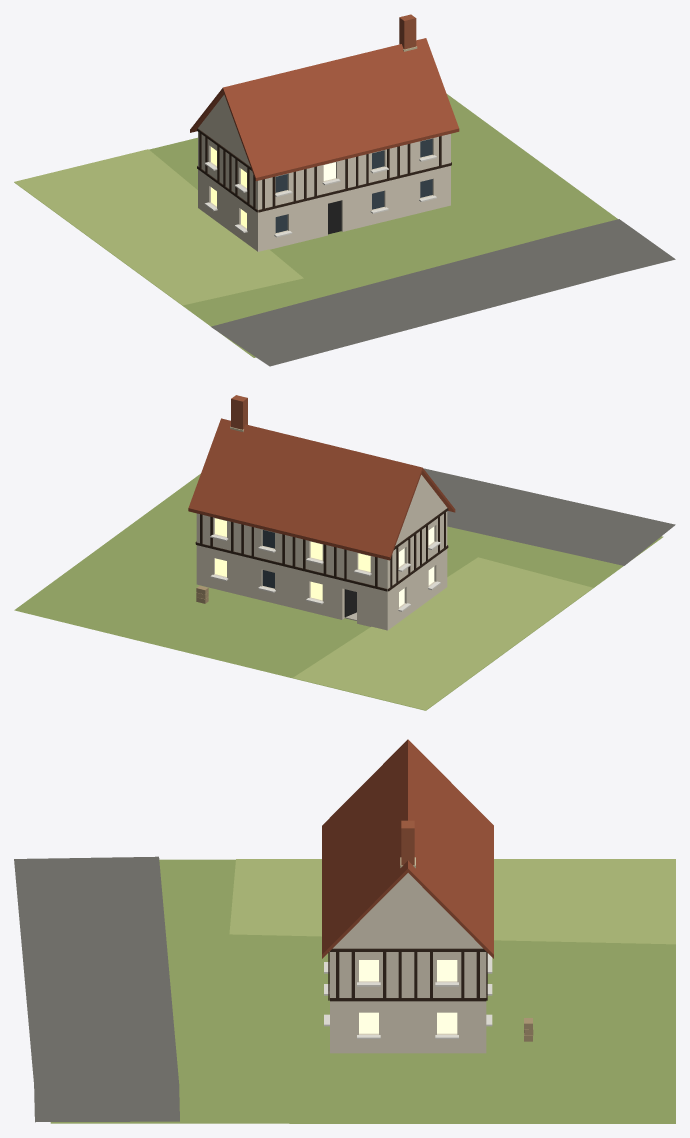
Rendered from the_plough-evening.glb.
3 renders of one model, top to bottom at view 1: azimuth 30°, elevation 25°; view 2: azimuth 150°, elevation 25°; view 3: azimuth 270°, elevation 25°, orthographic. The views are drawn at different scales.
Visible parts, largest first — view 1: ground, ground_lanes, cut_roof_the_plough, ground_areas, the_plough_shell, the_plough_walls; view 2: ground, cut_roof_the_plough, ground_areas, the_plough_shell, ground_lanes, the_plough_walls; view 3: ground, ground_lanes, cut_roof_the_plough, ground_areas, the_plough_shell, the_plough_walls.
Boxes of the visible parts, bbox=[...] form: ground: bbox=[14, 93, 617, 357]; ground_lanes: bbox=[211, 219, 675, 366]; cut_roof_the_plough: bbox=[190, 14, 459, 181]; ground_areas: bbox=[14, 149, 303, 305]; the_plough_shell: bbox=[198, 95, 450, 251]; the_plough_walls: bbox=[197, 128, 451, 237]; ground: bbox=[14, 473, 663, 710]; cut_roof_the_plough: bbox=[188, 395, 455, 560]; ground_areas: bbox=[293, 557, 592, 710]; the_plough_shell: bbox=[196, 475, 447, 630]; ground_lanes: bbox=[423, 468, 675, 565]; the_plough_walls: bbox=[195, 508, 448, 617]; ground: bbox=[50, 859, 675, 1123]; ground_lanes: bbox=[14, 856, 179, 1122]; cut_roof_the_plough: bbox=[322, 739, 493, 958]; ground_areas: bbox=[229, 859, 675, 944]; the_plough_shell: bbox=[330, 873, 486, 1053]; the_plough_walls: bbox=[324, 948, 492, 1038].
Size of the model in its own units: 28.15 by 10.89 by 29.65.
